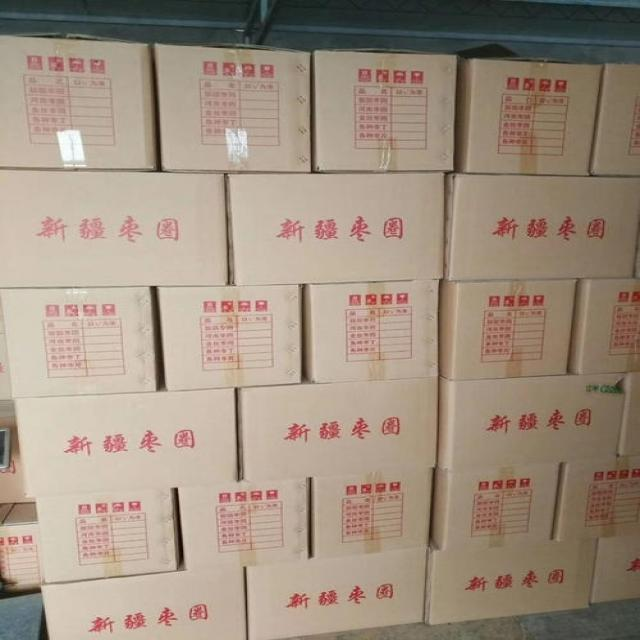box: (0, 170, 229, 290), (227, 172, 446, 286), (14, 388, 241, 497), (0, 33, 155, 171), (445, 172, 639, 279), (238, 380, 437, 483), (154, 46, 313, 173), (436, 374, 628, 472), (313, 49, 454, 173), (1, 287, 157, 396), (457, 59, 603, 175), (248, 549, 427, 639), (40, 565, 250, 639), (424, 536, 597, 623), (159, 286, 303, 389), (439, 278, 576, 382), (304, 280, 438, 384), (34, 488, 179, 584), (178, 480, 311, 570), (429, 463, 564, 549), (314, 469, 434, 560), (552, 458, 639, 541), (568, 277, 639, 375), (591, 63, 639, 176), (0, 400, 34, 502), (590, 534, 639, 604), (616, 371, 639, 458), (0, 296, 13, 401)
